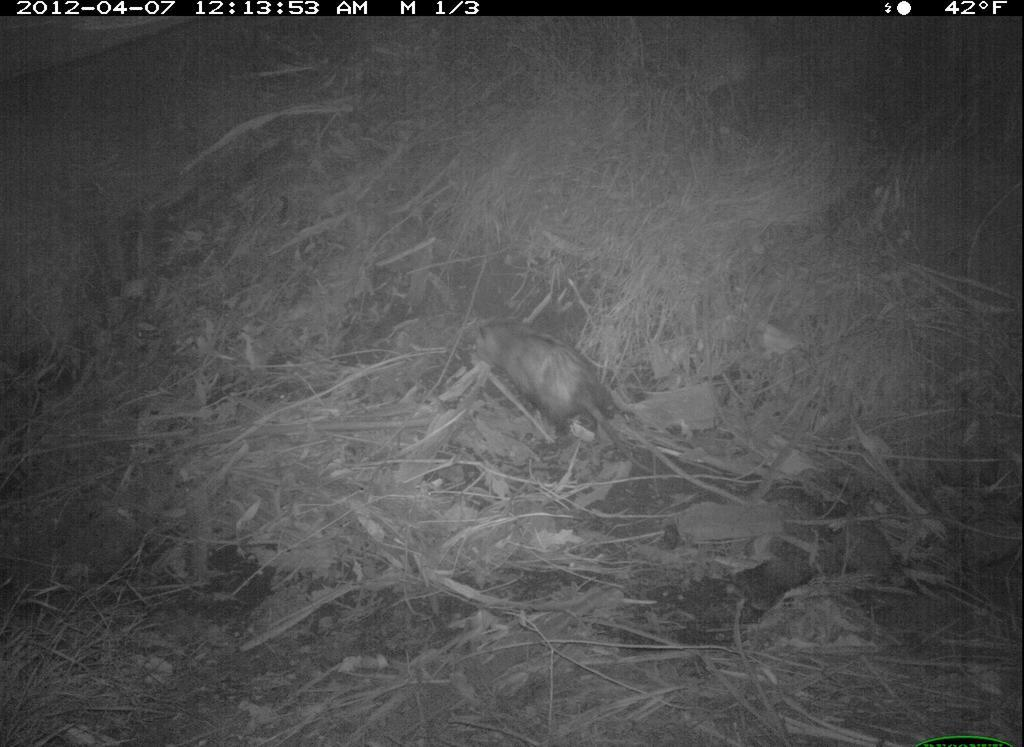opossum: (446, 286, 657, 493)
